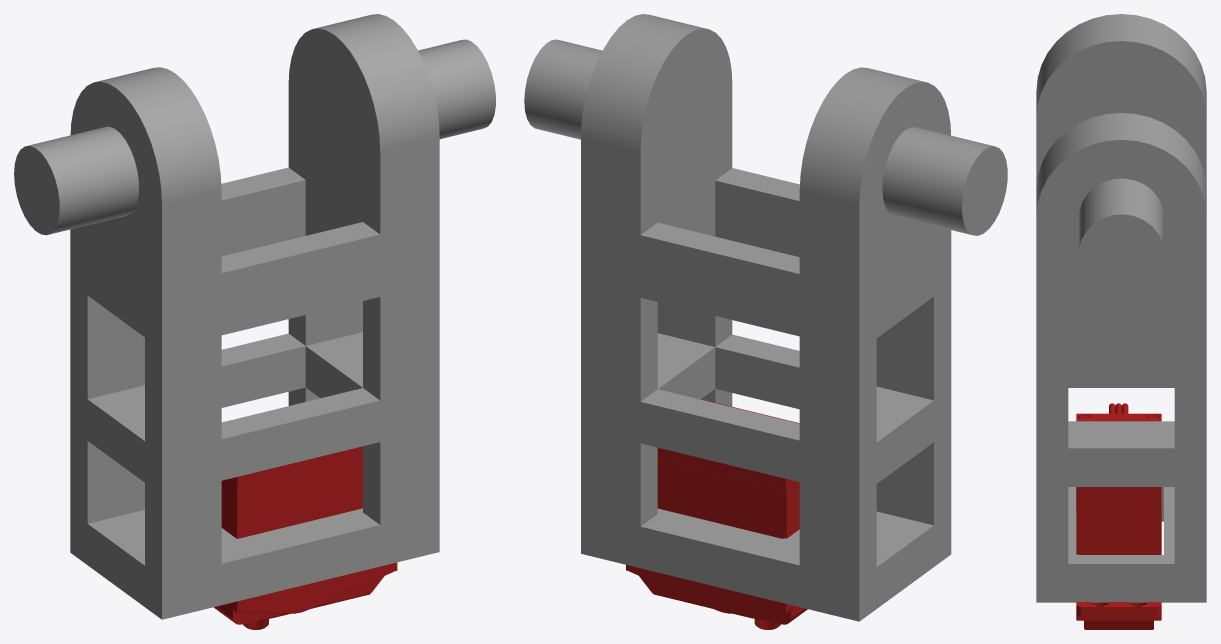
3 renders of one model, left to right at view 1: azimuth 30°, elevation 25°; view 2: azimuth 150°, elevation 25°; view 3: azimuth 270°, elevation 25°, orthographic. The views are drawn at different scales.
Visible parts, largest first — view 1: b1 v6, Body4, Body5; view 2: b1 v6, Body6, Body4; view 3: b1 v6, Body4.
Boxes of the visible parts, box(x1,y1,x2,y2) form: b1 v6: box(14, 14, 495, 619); Body4: box(214, 446, 397, 629); Body5: box(238, 460, 362, 538); b1 v6: box(524, 14, 1007, 621); Body6: box(657, 458, 786, 538); Body4: box(626, 399, 807, 629); b1 v6: box(1036, 14, 1206, 602); Body4: box(1076, 413, 1161, 629).
Bounding box in the file's own units: 0.11 × 0.1373 × 0.04.
